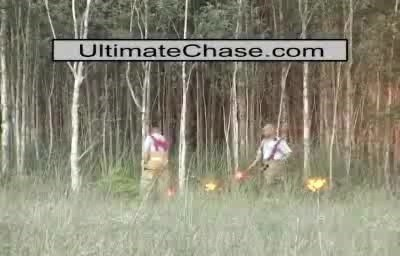fire: (173, 154, 234, 199), (290, 158, 346, 198)
